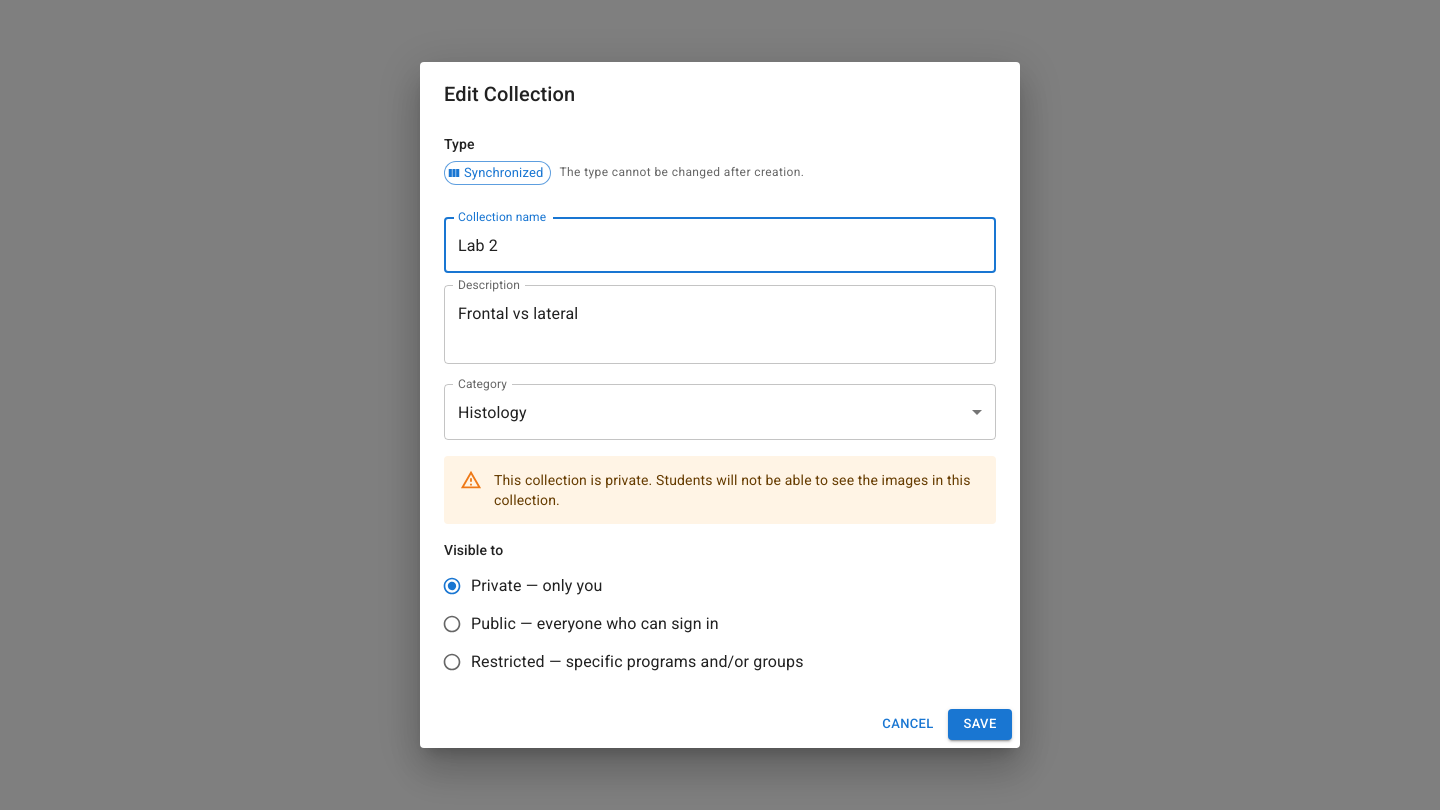
it: CollectionEditDialog › edit mode › warns when a private collection is filed and hides it when unfiled
Expected: the message shows "This collection is private. Students will not be able to see the images in this collection.", [494,472,970,508]
Click the dropdown named "Category": coordinates (492, 412) [458,403,527,422]
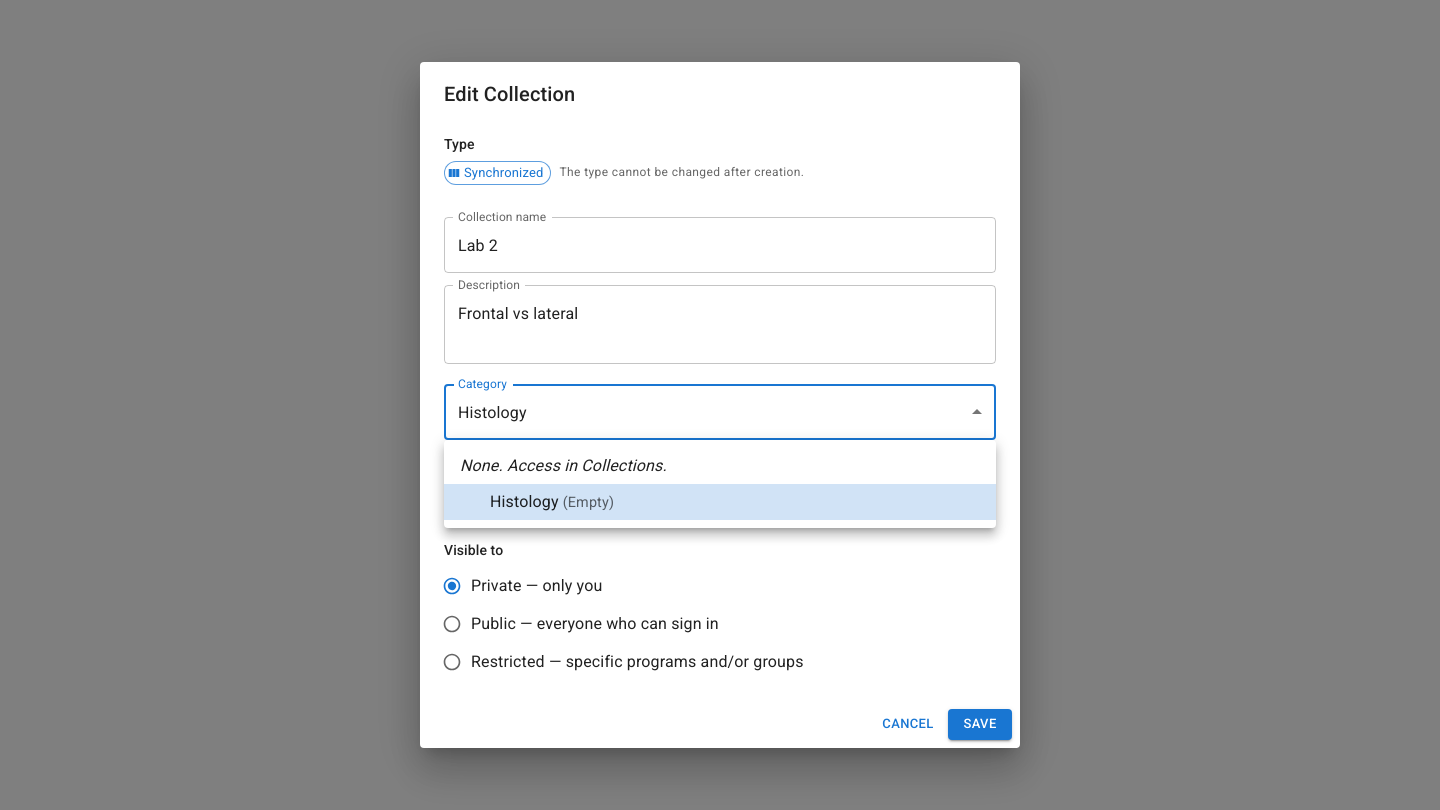
Click the option "None. Access in Collections.": coordinates (563, 466) [460,456,667,475]
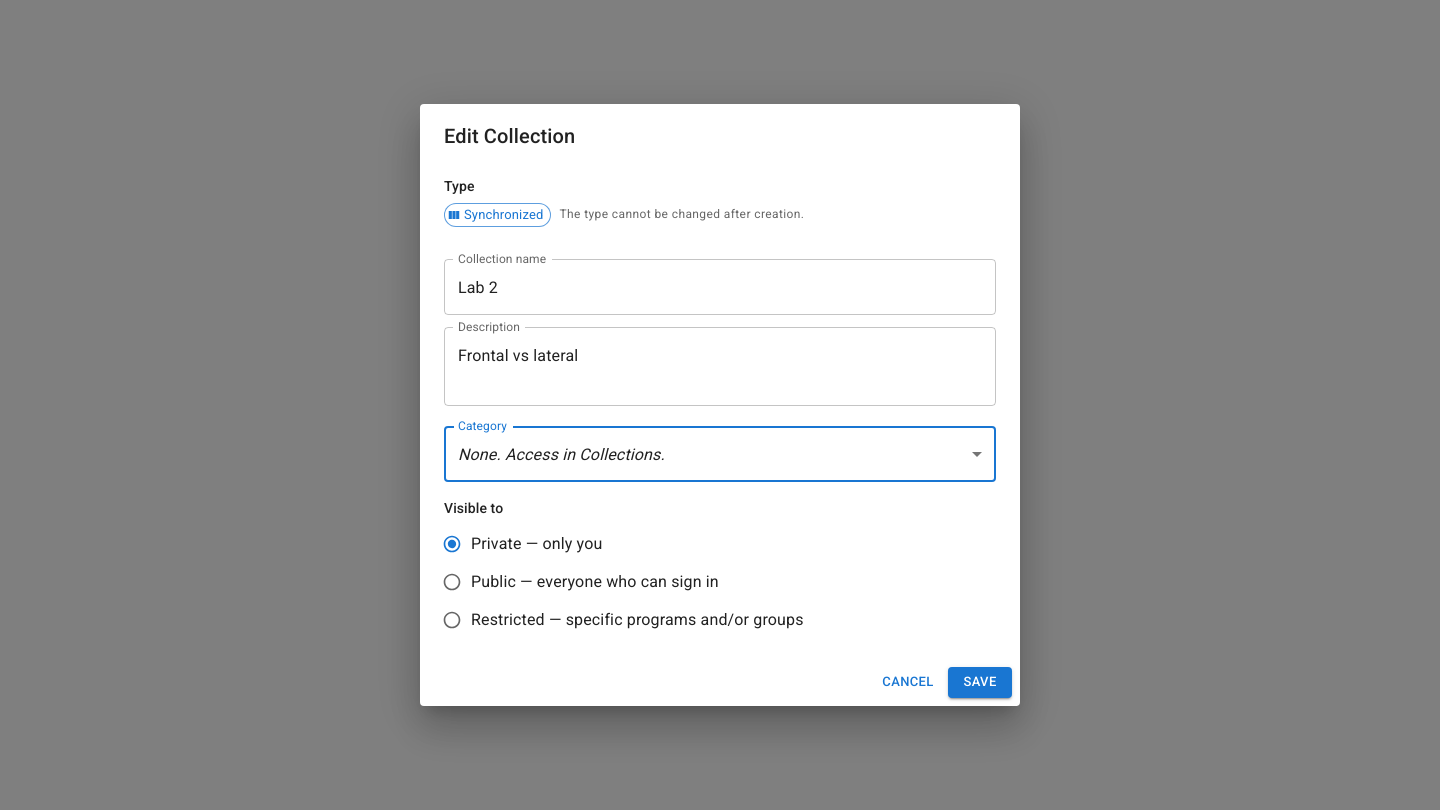
Now the message "This collection is private. Students will not be able to see the images in this" is gone
